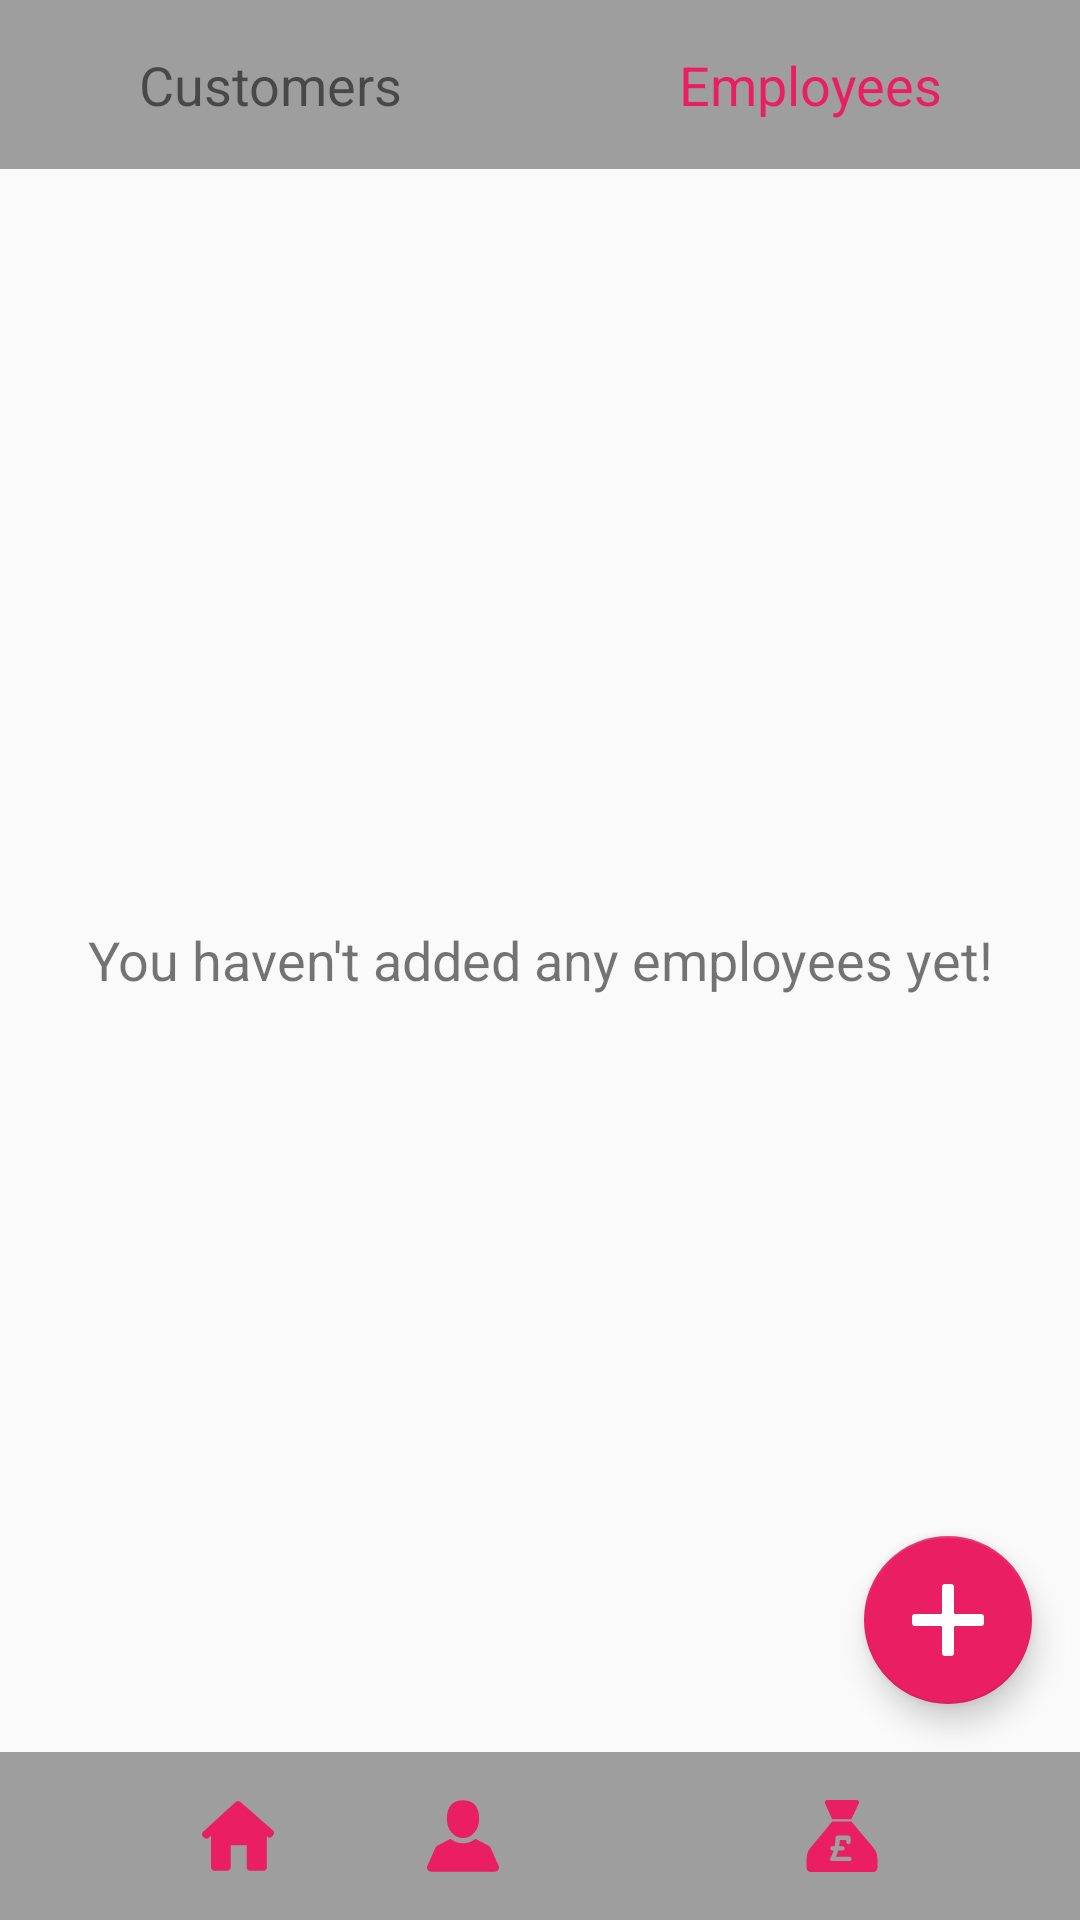

Icons on this 1080*1920 Android screen, each with its box as [left=x1, top=y1, right=x2, bottom=y2]:
add: [left=864, top=1536, right=1032, bottom=1704]
home: [left=202, top=1801, right=274, bottom=1871]
money: [left=806, top=1800, right=878, bottom=1872]
person: [left=427, top=1800, right=499, bottom=1872]
